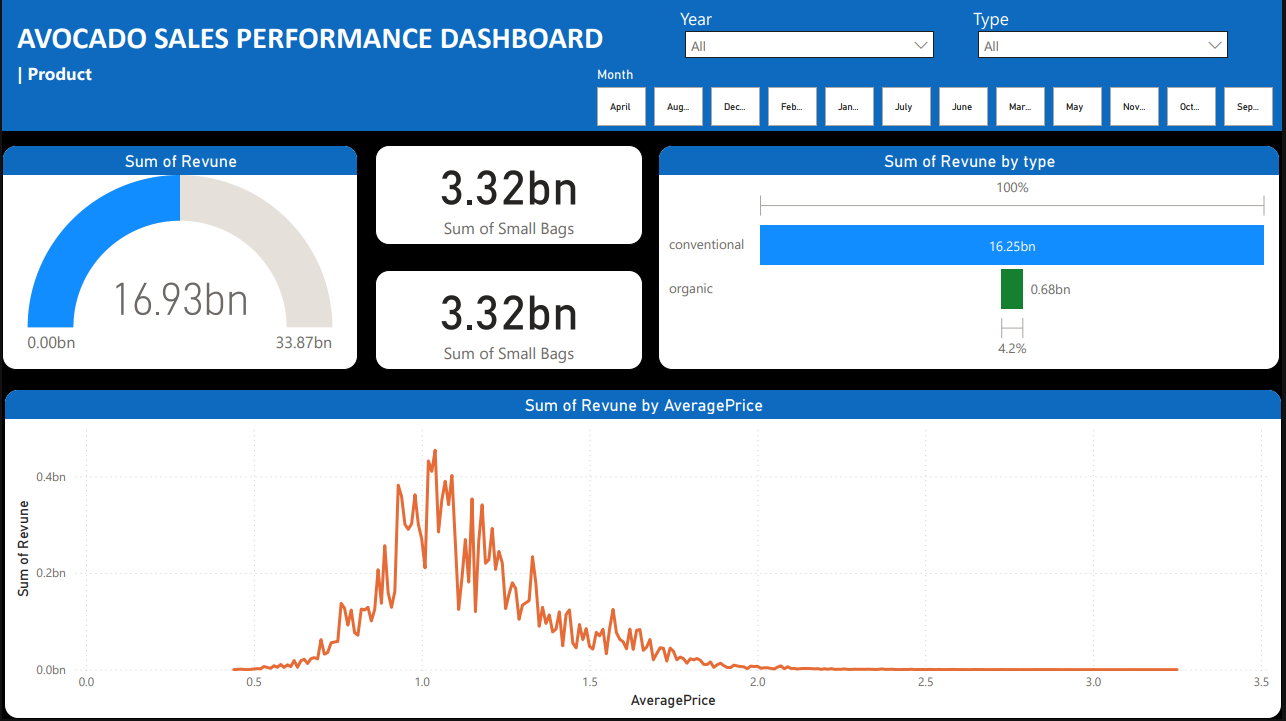

The dashboard page shown, as its layout file describes it:
{"tool":"powerbi","page":{"name":"Sales Performance","canvas":[1280,720],"ordinal":1},"visuals":[{"type":"textbox","title":"AVOCADO SALES PERFORMANCE DASHBOARD","box":[0,0,1279.7,132.2],"z":0},{"type":"slicer","title":"Year","fields":{"Values":["Table1.year"]},"box":[672.9,6.8,269.5,59.3],"z":1000},{"type":"slicer","title":"Type","fields":{"Values":["Table1.type"]},"box":[966.1,6.8,269.5,59.3],"z":2000},{"type":"lineChart","fields":{"Category":["Table1.AveragePrice"],"Y":["Sum(Table1.Revune)"]},"box":[1.7,389.8,1278,330.5],"z":3000},{"type":"gauge","fields":{"Y":["Sum(Table1.Revune)"]},"box":[0,145.8,355.9,225.4],"z":4000},{"type":"funnel","fields":{"Category":["Table1.type"],"Y":["Sum(Table1.Revune)"]},"box":[655.9,145.8,622,225.4],"z":5000},{"type":"card","fields":{"Values":["Sum(Table1.Small Bags)"]},"box":[372.9,145.8,267.8,100],"z":6000},{"type":"card","fields":{"Values":["Sum(Table1.Small Bags)"]},"box":[372.9,271.2,267.8,100],"z":6001},{"type":"advancedSlicerVisual","fields":{"Values":["Table1.Month"]},"box":[589.8,67.8,689.8,64.4],"z":6002}]}

Visuals, with their boxes in screenshot pixels (x1, y1, x2, y2), scaled from the page's 1280x720 canvas onto the 1286x721 screenshot:
"AVOCADO SALES PERFORMANCE DASHBOARD" textbox: box=[0, 0, 1285, 132]
"Year" slicer: box=[676, 7, 947, 66]
"Type" slicer: box=[971, 7, 1241, 66]
lineChart - Table1.AveragePrice x Sum(Table1.Revune): box=[2, 390, 1285, 720]
gauge - Sum(Table1.Revune): box=[0, 146, 358, 372]
funnel - Table1.type x Sum(Table1.Revune): box=[659, 146, 1284, 372]
card - Sum(Table1.Small Bags): box=[375, 146, 644, 246]
card - Sum(Table1.Small Bags): box=[375, 272, 644, 372]
advancedSlicerVisual - Table1.Month: box=[593, 68, 1285, 132]
